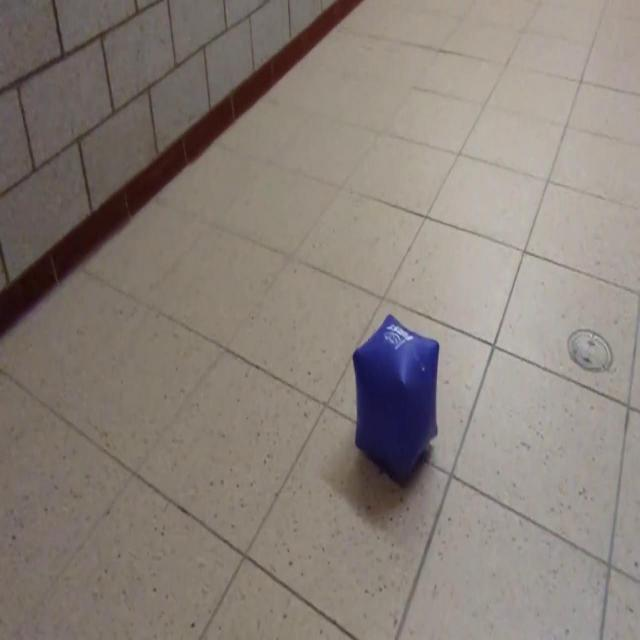frc_cube: (346, 313, 444, 483)
